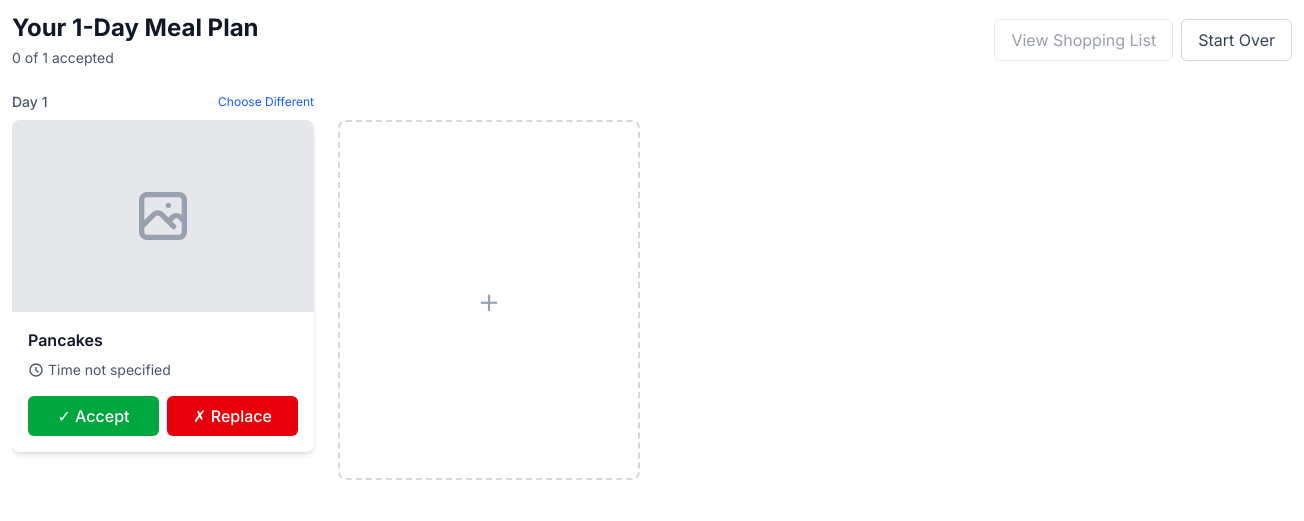
Test: MealPlanView acceptance state › error message is dismissed when the user chooses a different recipe after a failed accept
Fail the accept on recipe 1 — alert should appear
Click the button "✓ Accept": (94, 416) [28,396,159,436]
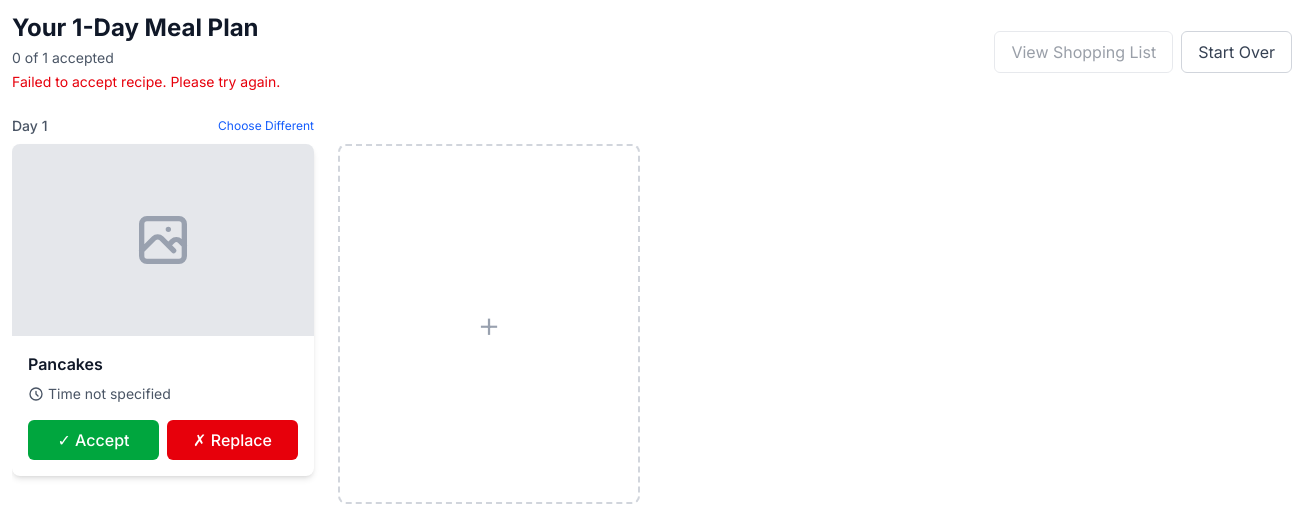
expect the message "Failed to accept recipe. Please try again." is shown: met, box [12,72,280,92]
Drive the "Choose Different" flow (triggers handleReplaceWithSpecific)
Click the button "Choose Different": (266, 126) [218,118,314,134]
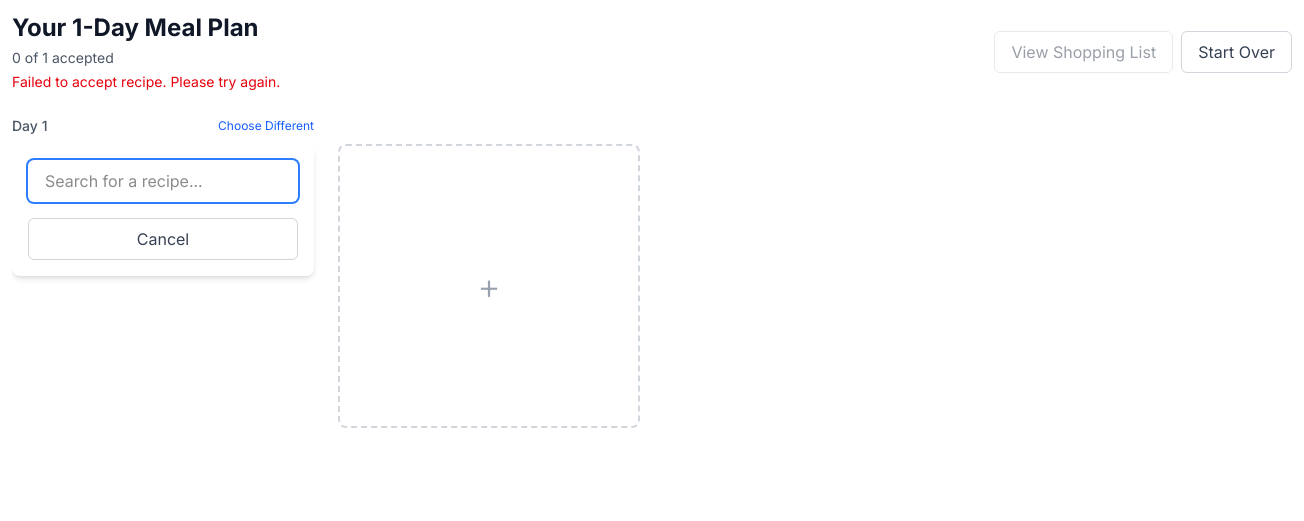
In the field with placeholder "Search for a recipe...": (163, 181) [28,160,298,202], type "French"
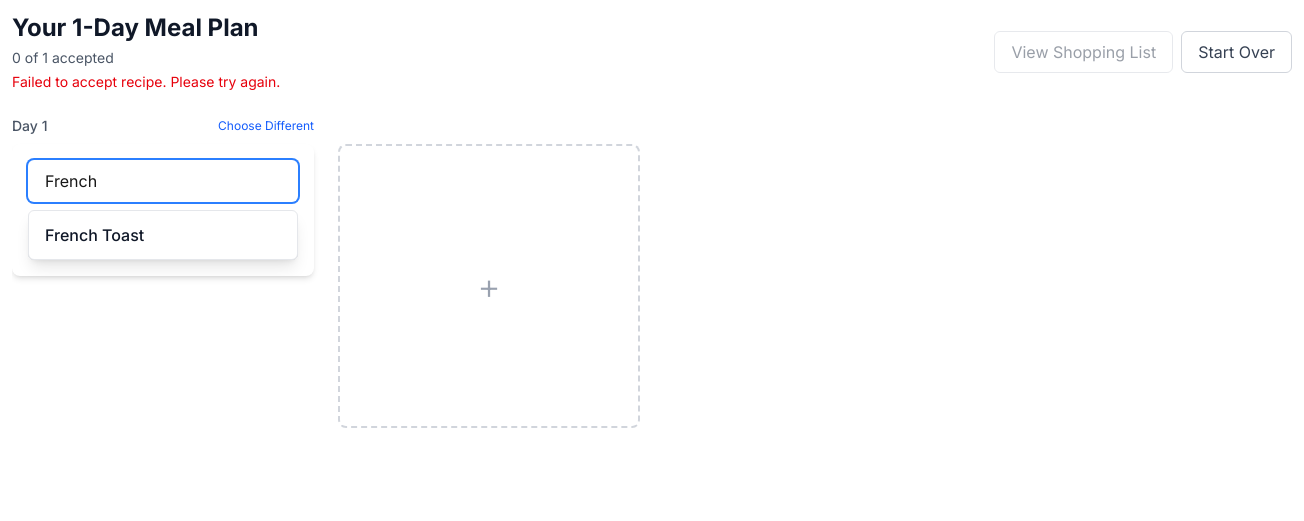
expect the text "French Toast" is shown: met, box [45,225,144,245]
Click the button "French Toast": (95, 235) [29,211,297,259]
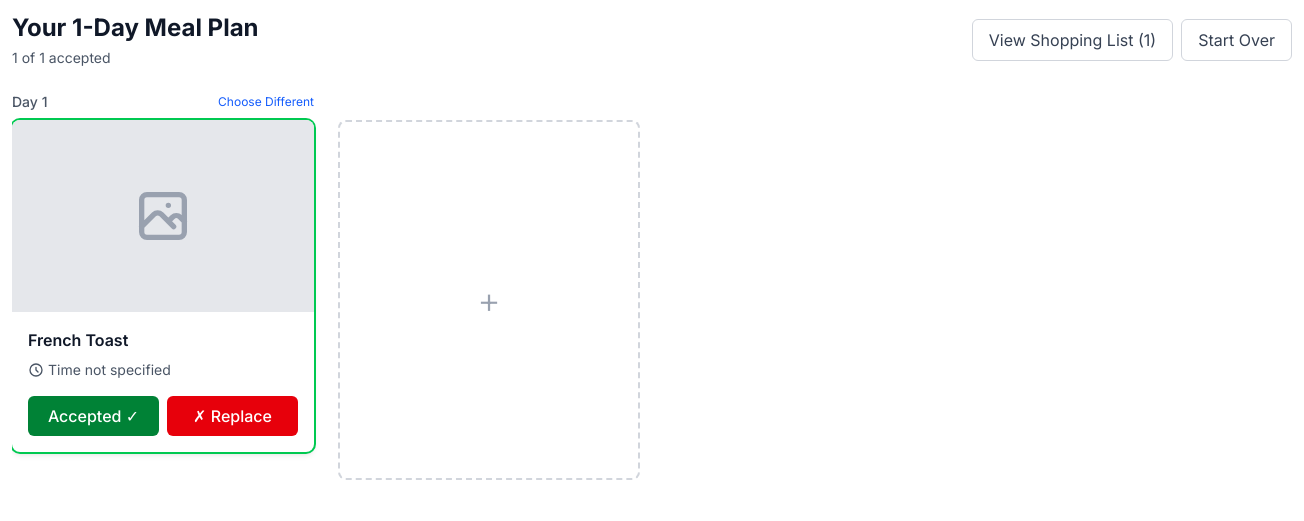
expect the message "Failed to accept recipe. Please try again." is gone: met
